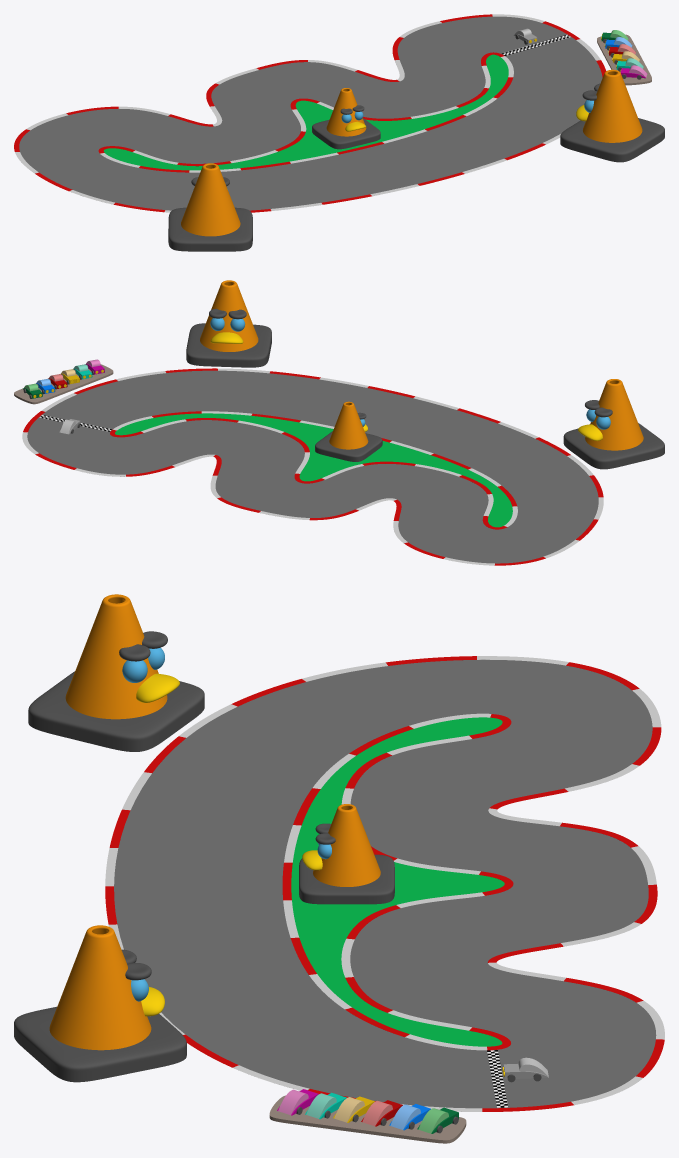
The model's file is Track008_MiniComb3.fbx.
The picture shows the model from 3 angles, top to bottom: view 1: azimuth 30°, elevation 25°; view 2: azimuth 150°, elevation 25°; view 3: azimuth 270°, elevation 25°; orthographic projection. The views are drawn at different scales.
Parts seen in each view (by area): view 1: Track, Island_00, BigConeTop.003, BigConeTop.002, BigConeBase.002, BigConeBase.003, BigConeBase.001, BigConeTop.001, VehicleRoad; view 2: Track, Island_00, BigConeTop.003, BigConeBase.002, BigConeBase.003, BigConeTop.002, BigConeTop.001, BigConeBase.001, VehicleRoad; view 3: Track, Island_00, BigConeTop.002, BigConeTop.003, BigConeBase.002, BigConeBase.003, BigConeTop.001, BigConeBase.001, VehicleRoad, BigConeBeak.003, BigConeBrows.003, SlopeCarPlaceholder (+1 smaller).
Boxes of the visible parts, box(x1,y1,x2,y2) form: Track: box(19, 16, 602, 210); Island_00: box(104, 54, 508, 170); BigConeTop.003: box(181, 163, 240, 236); BigConeTop.002: box(583, 69, 642, 142); BigConeBase.002: box(560, 118, 664, 162); BigConeBase.003: box(168, 207, 252, 251); BigConeBase.001: box(312, 118, 380, 149); BigConeTop.001: box(326, 88, 366, 136); VehicleRoad: box(597, 34, 651, 85); Track: box(27, 370, 598, 563); Island_00: box(115, 413, 512, 527); BigConeTop.003: box(585, 379, 643, 450); BigConeBase.002: box(186, 323, 271, 367); BigConeBase.003: box(563, 423, 664, 469); BigConeTop.002: box(200, 280, 258, 351); BigConeTop.001: box(329, 401, 368, 449); BigConeBase.001: box(315, 431, 382, 461); VehicleRoad: box(14, 364, 113, 404); Track: box(114, 659, 656, 1108); Island_00: box(291, 717, 504, 1046); BigConeTop.002: box(49, 925, 151, 1050); BigConeTop.003: box(65, 594, 167, 719); BigConeBase.002: box(14, 1006, 186, 1082); BigConeBase.003: box(28, 671, 204, 751); BigConeTop.001: box(313, 804, 380, 886); BigConeBase.001: box(299, 854, 394, 904); VehicleRoad: box(269, 1095, 466, 1143); BigConeBeak.003: box(136, 673, 179, 702); BigConeBrows.003: box(119, 631, 167, 661); SlopeCarPlaceholder: box(502, 1057, 548, 1082).
Size of what is drawn, in the model's own units: 157 by 88.62 by 17.31.
